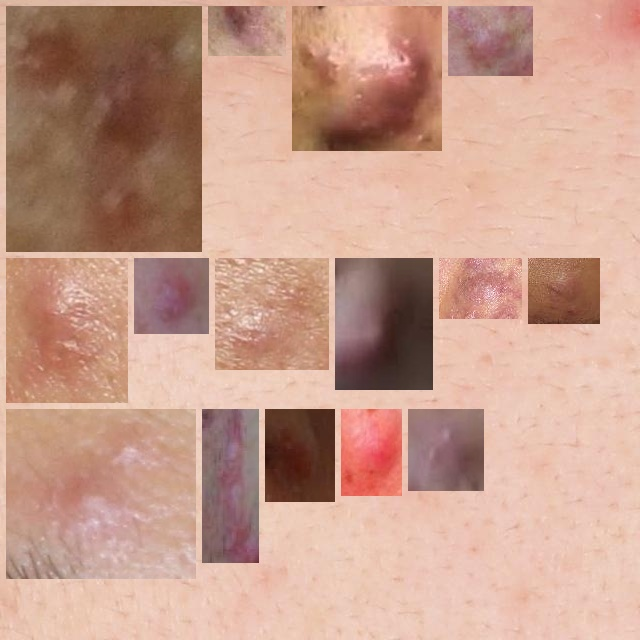nodule: (14, 14, 194, 244), (14, 417, 188, 571), (300, 14, 434, 143), (14, 266, 120, 395), (343, 266, 425, 382), (223, 266, 321, 362), (210, 417, 251, 555), (273, 417, 327, 494), (416, 417, 476, 483), (456, 14, 525, 68), (142, 266, 201, 326), (349, 417, 394, 488), (447, 266, 514, 311), (536, 266, 592, 316), (216, 6, 278, 48)
